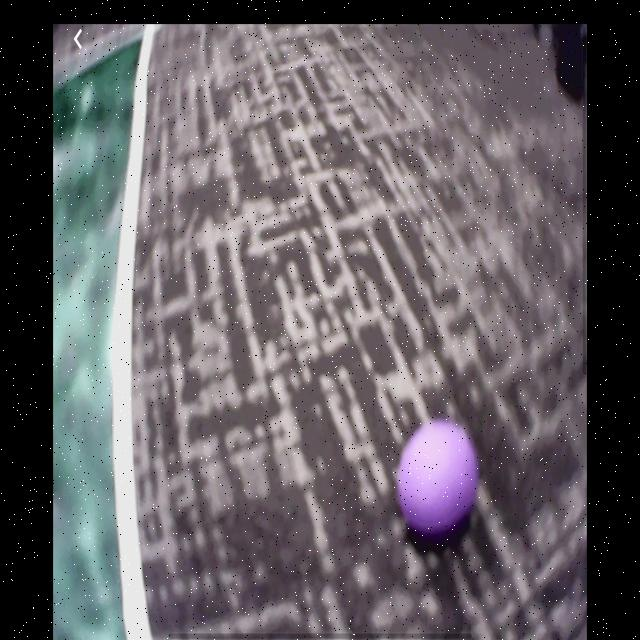ball: (396, 417, 480, 538)
